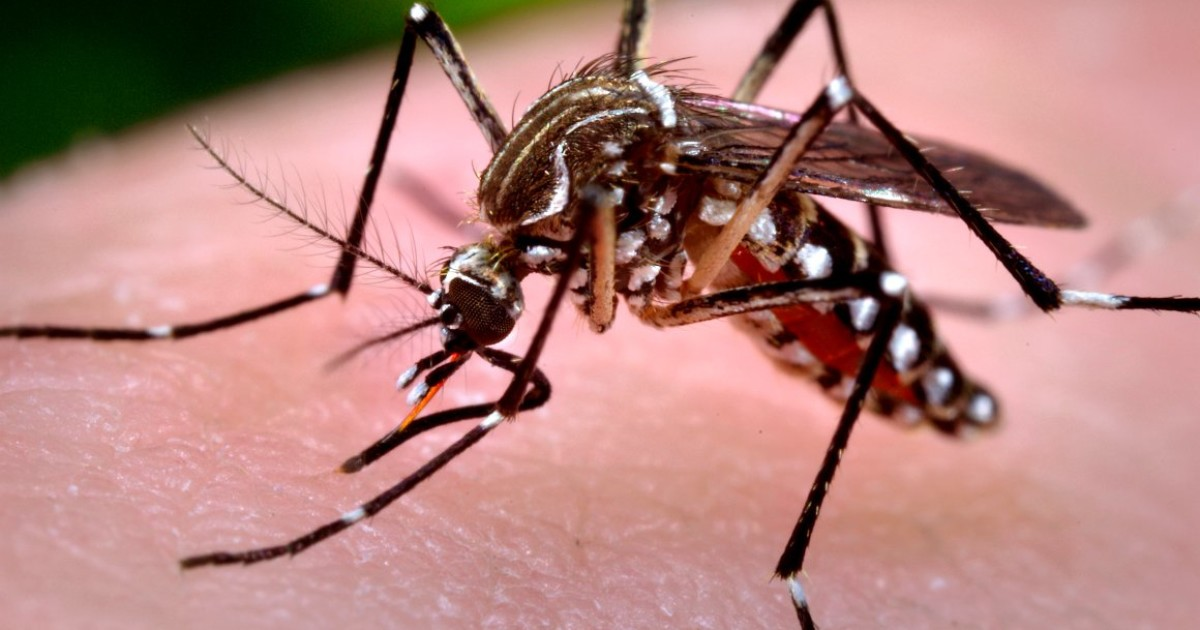dengue_mosquito: (182, 1, 1085, 480)
